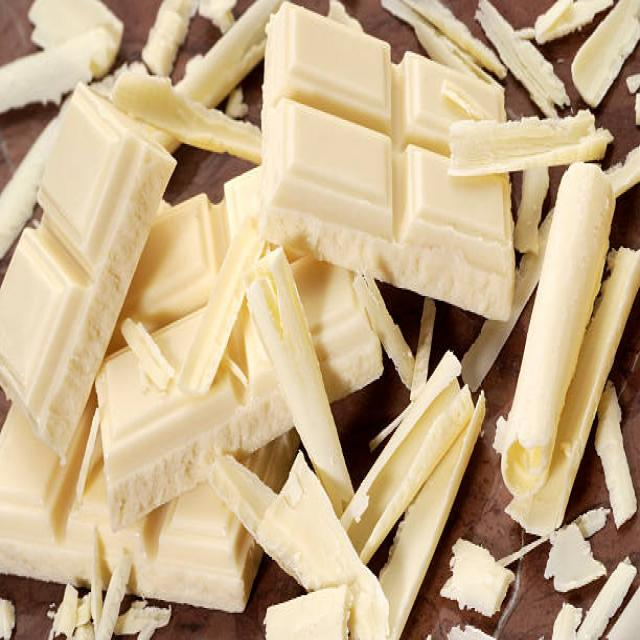chocolate: (0, 0, 640, 640), (261, 8, 522, 328), (0, 78, 182, 454)
